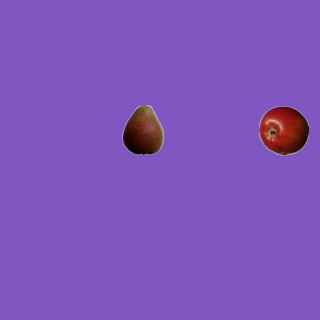Apple Braeburn: (258, 105, 308, 155)
Pear Forelle: (117, 104, 167, 154)
